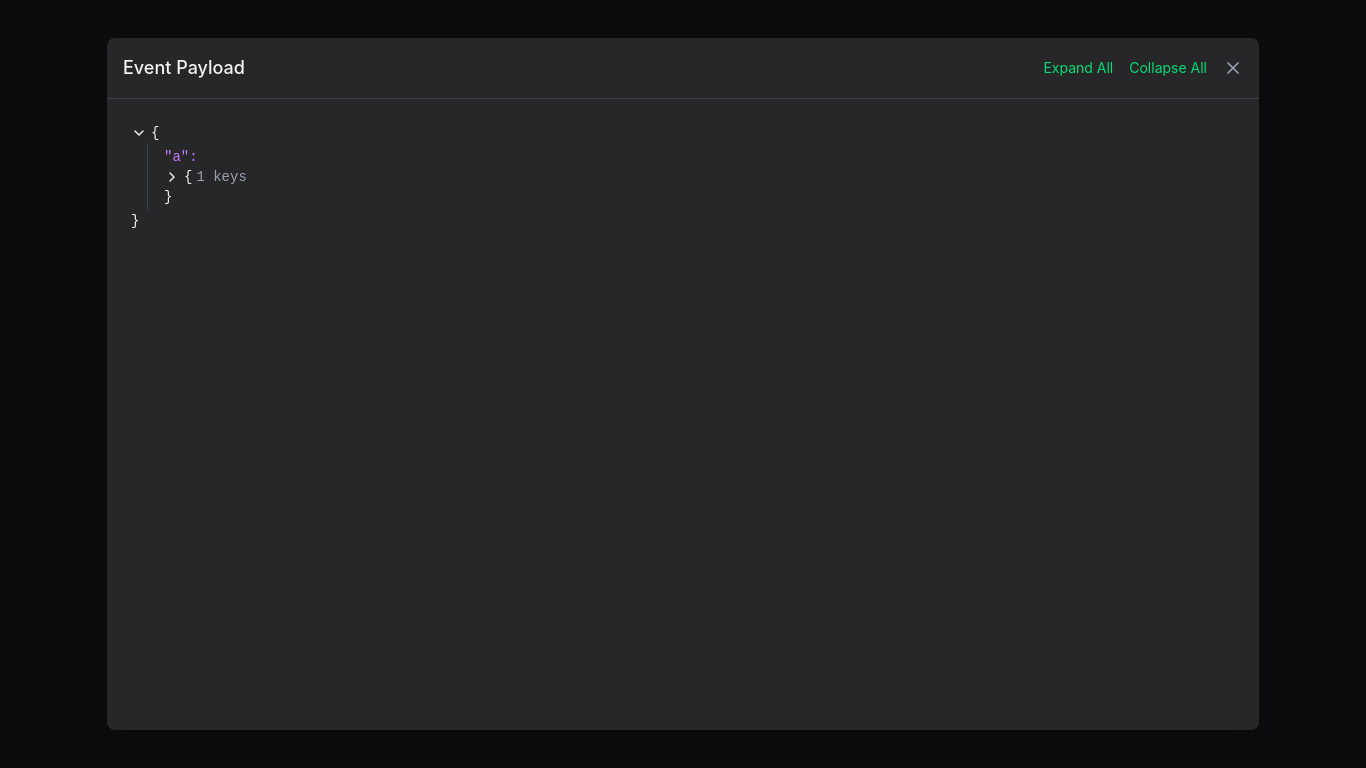
Scenario: PayloadModal › toggles a single path via handleToggle
This screenshot has width=1366, height=768.
Check: the text "\"a\":" is shown, box [164, 149, 198, 165]
Click the element with class "cursor-pointer" showing "{" at (145, 133), box [131, 125, 159, 141]
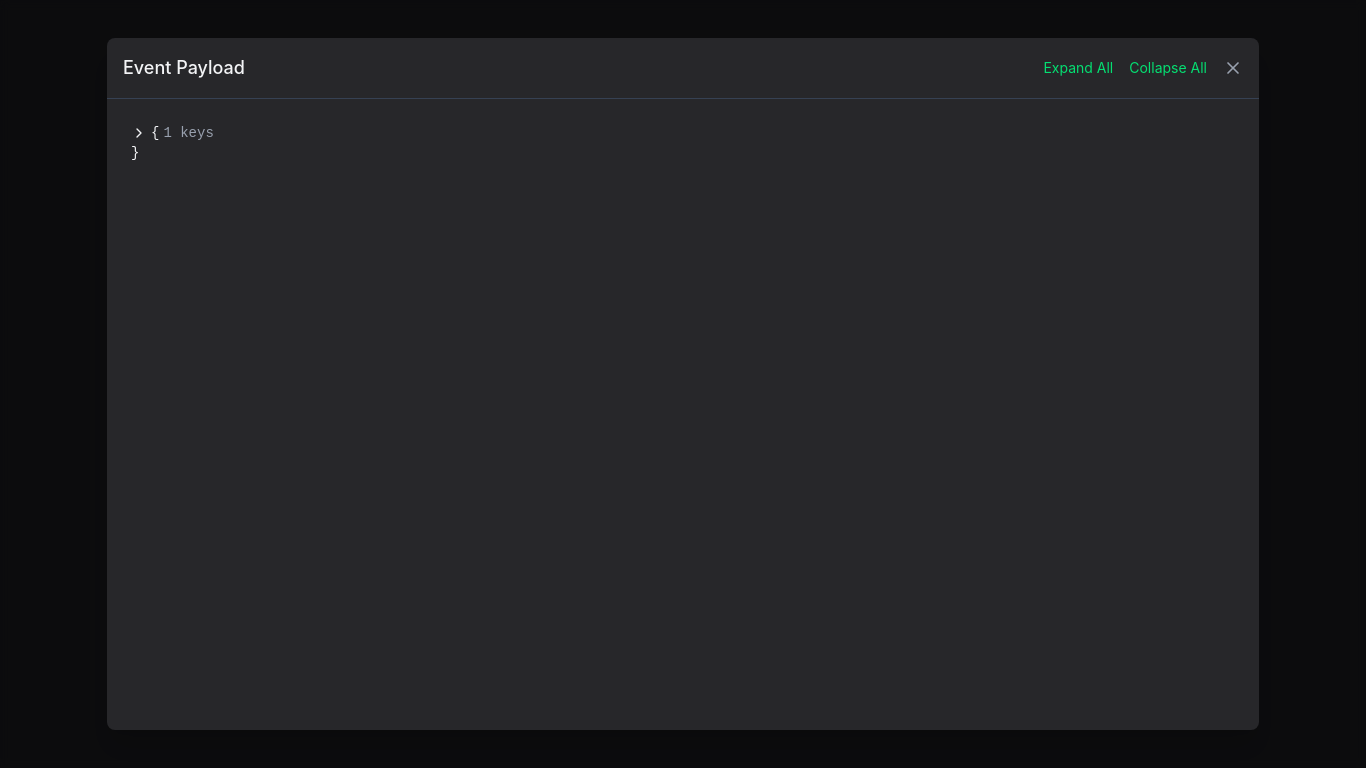
Check: the text "\"a\":" is gone
